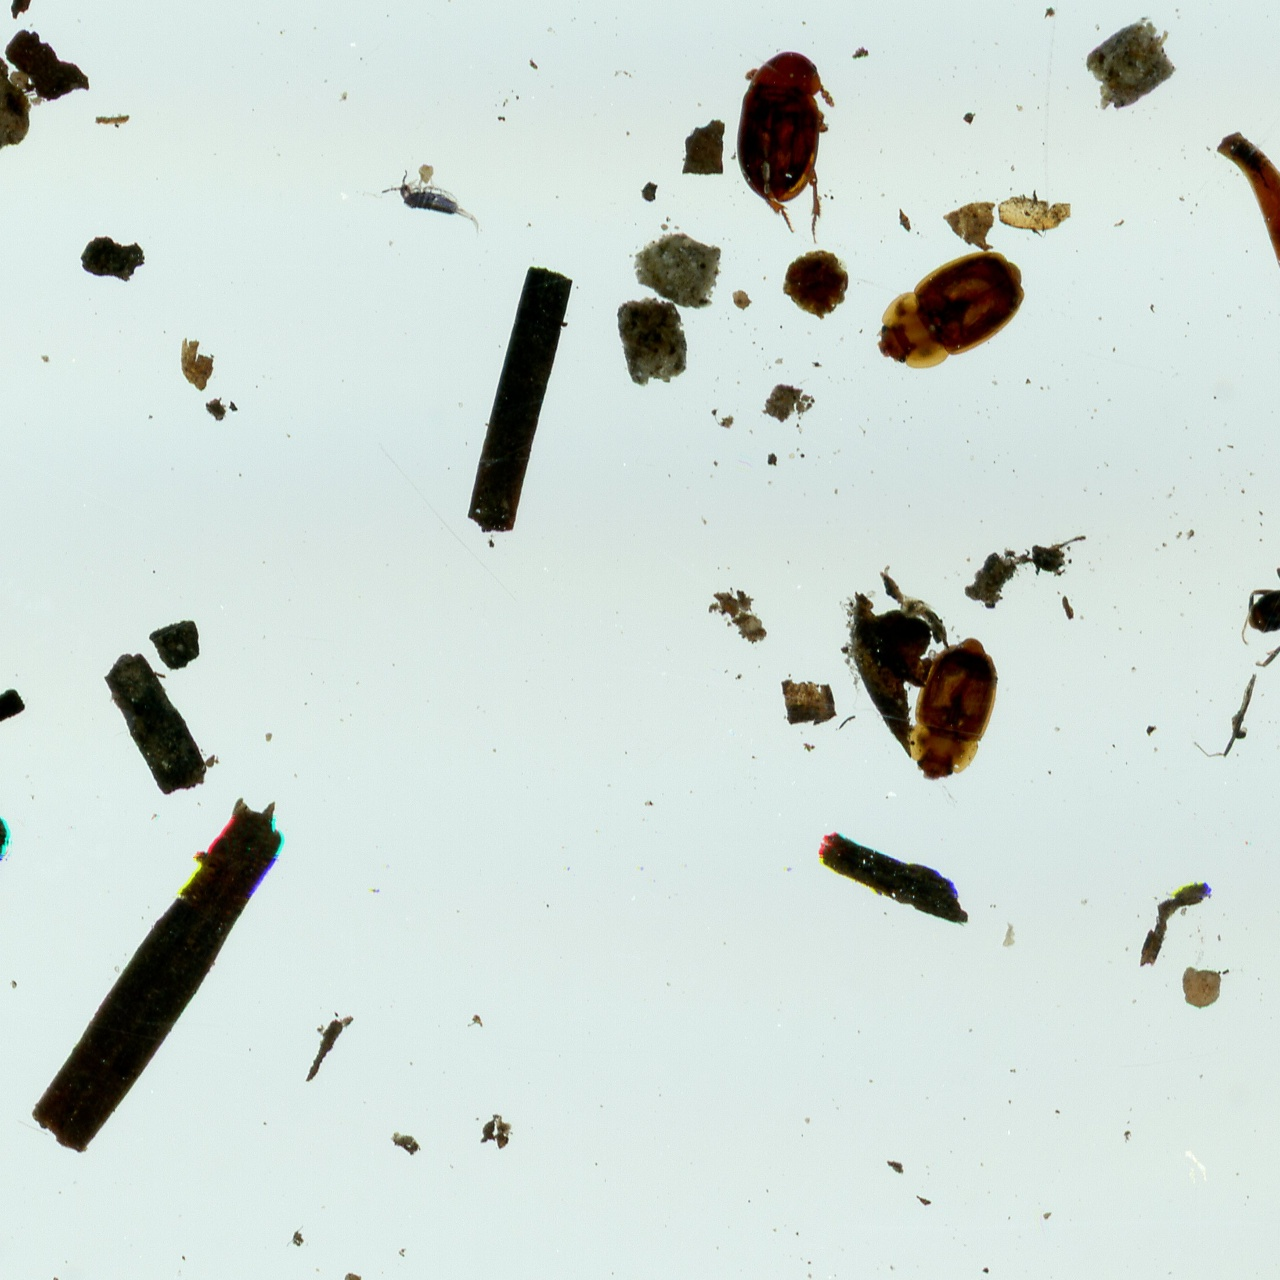arthropod: (858, 231, 1040, 386), (737, 49, 833, 241), (901, 626, 1006, 787), (1217, 471, 1280, 693), (377, 165, 488, 225)
